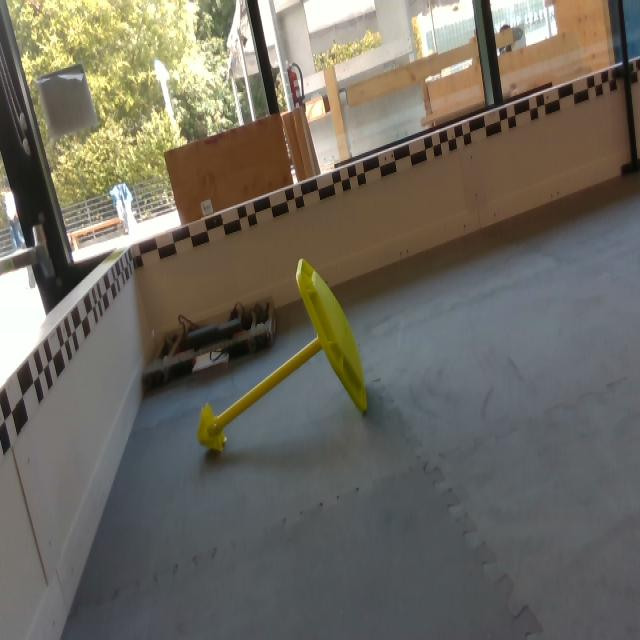Mobile-Goal: (197, 260, 368, 453)
Yellow-Stake-Head: (198, 402, 226, 452)
